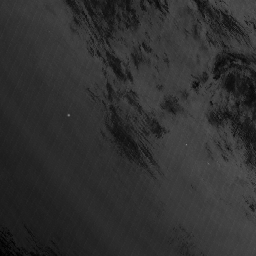Target: (65, 111, 71, 118)
